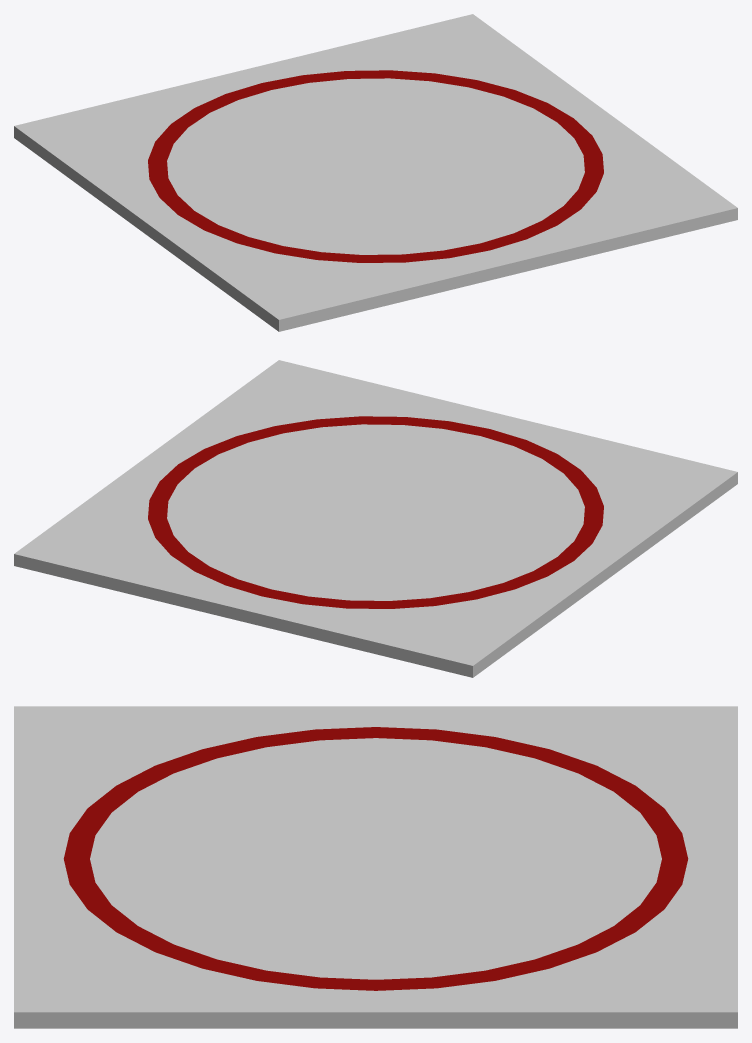
File: NCCCO_plane_red.dae
3 renders of one model, top to bottom at view 1: azimuth 30°, elevation 25°; view 2: azimuth 150°, elevation 25°; view 3: azimuth 270°, elevation 25°, orthographic. The views are drawn at different scales.
Visible parts, largest first — view 1: Plane; view 2: Plane; view 3: Plane.
Part boxes in pixels (x1,y1,x2,y2): Plane: (14, 14, 737, 331); Plane: (14, 360, 737, 677); Plane: (14, 706, 737, 1028).
Size of the model in its own units: 2 by 2 by 0.0511.
